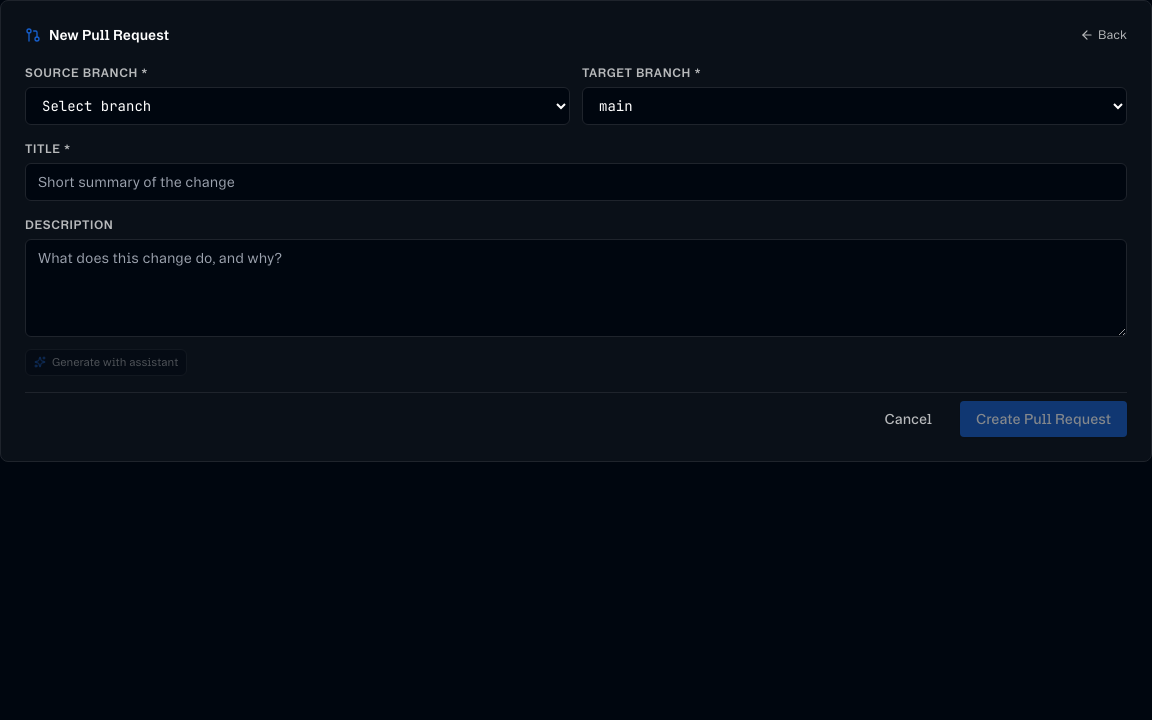
Scenario: PullRequestForm › assistant-drafted description › refuses to draft when the branch is already fully merged
Select "feature" in the dropdown below "Source Branch *". click: (298, 106)
box: x1=25 y1=87 x2=570 y2=125
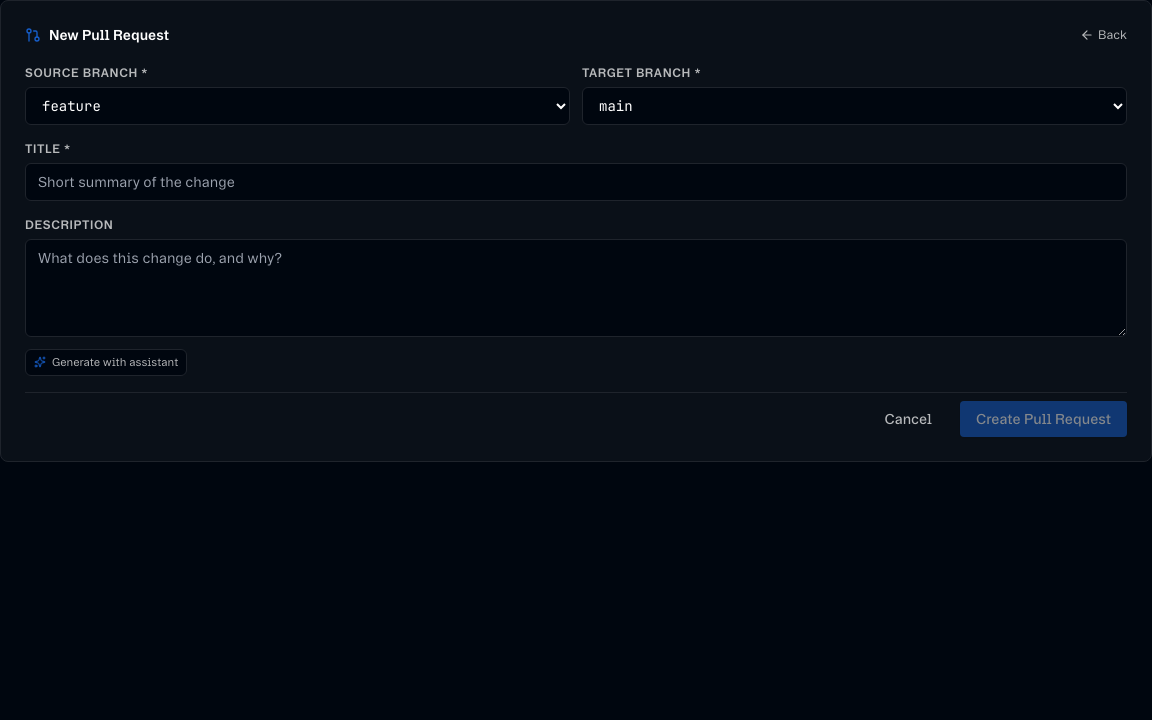
Click the button "Generate with assistant". click: click(106, 362)
box: x1=25 y1=349 x2=187 y2=376
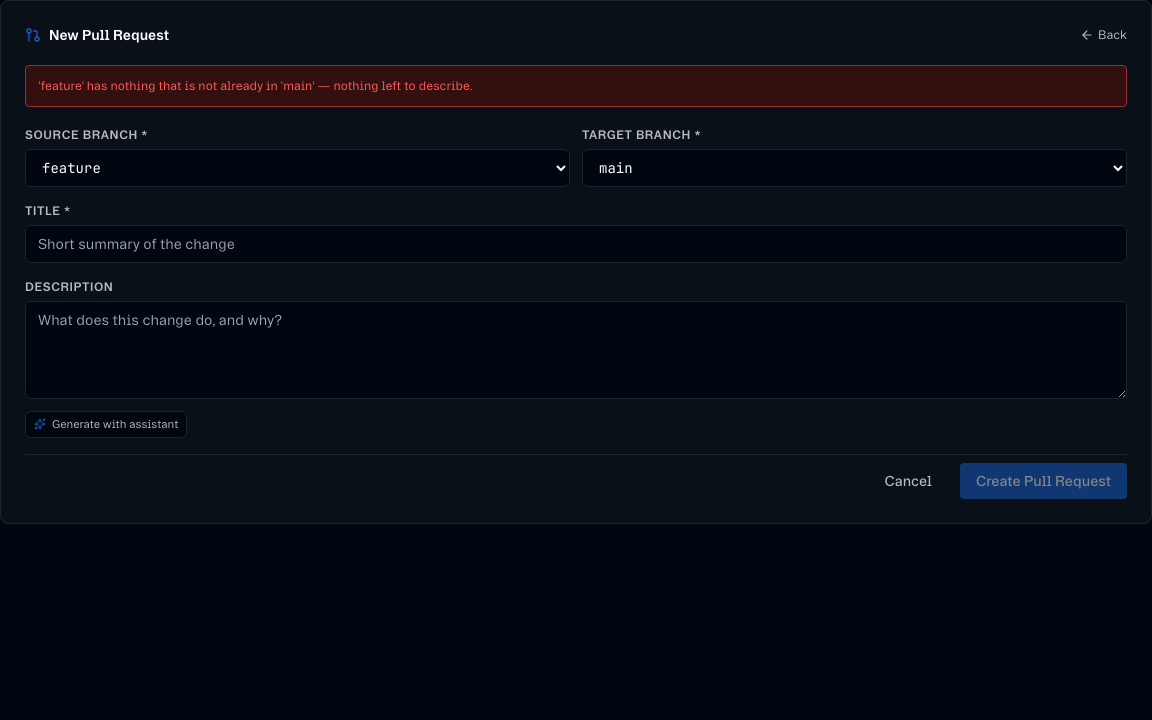
Check: the text "nothing that is not already in 'main'" is shown, box x1=38 y1=79 x2=473 y2=92
